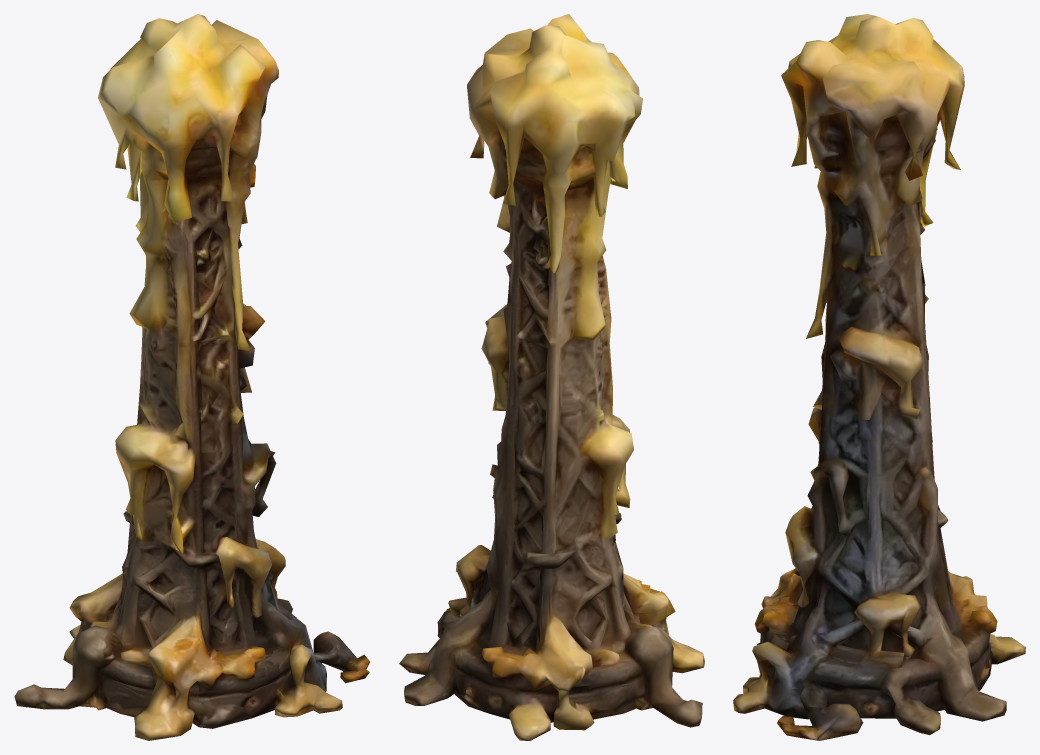
File: crypt_pillar.glb
3 views of the same model, side by side, from view 1: azimuth 30°, elevation 25°; view 2: azimuth 150°, elevation 25°; view 3: azimuth 270°, elevation 25° (orthographic).
Visible parts, largest first — view 1: tripo_node_9585dfde-8c5a-4dde-a149-550acc885a4e; view 2: tripo_node_9585dfde-8c5a-4dde-a149-550acc885a4e; view 3: tripo_node_9585dfde-8c5a-4dde-a149-550acc885a4e.
Boxes of the visible parts, x1,y1,x2,y2 form: tripo_node_9585dfde-8c5a-4dde-a149-550acc885a4e: (14,14,370,740); tripo_node_9585dfde-8c5a-4dde-a149-550acc885a4e: (399,14,704,740); tripo_node_9585dfde-8c5a-4dde-a149-550acc885a4e: (733,14,1025,740).
Size of the model in its own units: 0.4765 by 0.9804 by 0.3943.
Materials: 1 (1 with a texture image).
